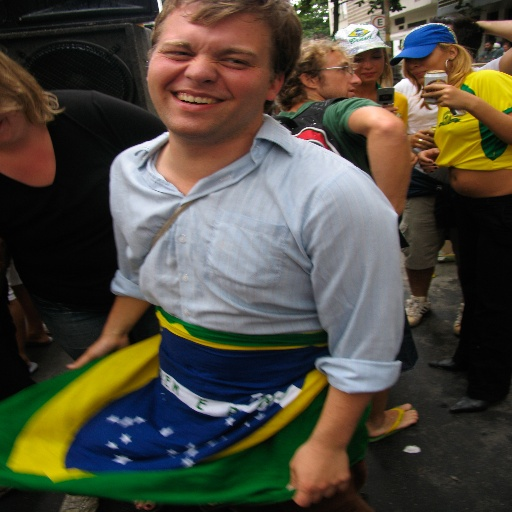hand: (288, 442, 355, 507), (67, 335, 128, 369), (419, 83, 477, 109), (418, 145, 441, 175), (406, 128, 432, 148), (408, 150, 419, 166), (378, 103, 397, 112)
